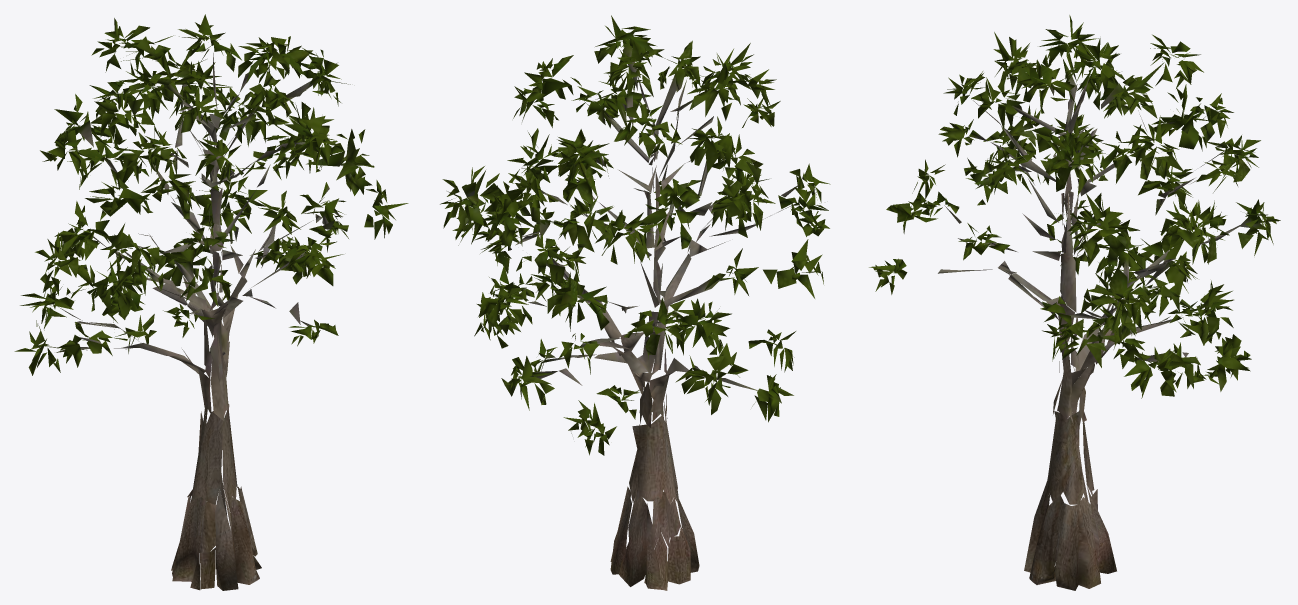
The model's file is tupelo.glb.
3 renders of one model, left to right at view 1: azimuth 30°, elevation 25°; view 2: azimuth 150°, elevation 25°; view 3: azimuth 270°, elevation 25°, orthographic.
Parts seen in each view (by area): view 1: tripo_node_5e22410a-f8bc-4f3f-9d88-121f7b743460; view 2: tripo_node_5e22410a-f8bc-4f3f-9d88-121f7b743460; view 3: tripo_node_5e22410a-f8bc-4f3f-9d88-121f7b743460.
Boxes of the visible parts, box(x1,y1,x2,y2) form: tripo_node_5e22410a-f8bc-4f3f-9d88-121f7b743460: box(14, 14, 408, 590); tripo_node_5e22410a-f8bc-4f3f-9d88-121f7b743460: box(440, 15, 830, 590); tripo_node_5e22410a-f8bc-4f3f-9d88-121f7b743460: box(869, 15, 1280, 590).
Size of the model in its own units: 10.58 by 15 by 10.46.
Materials: 1 (1 with a texture image).
